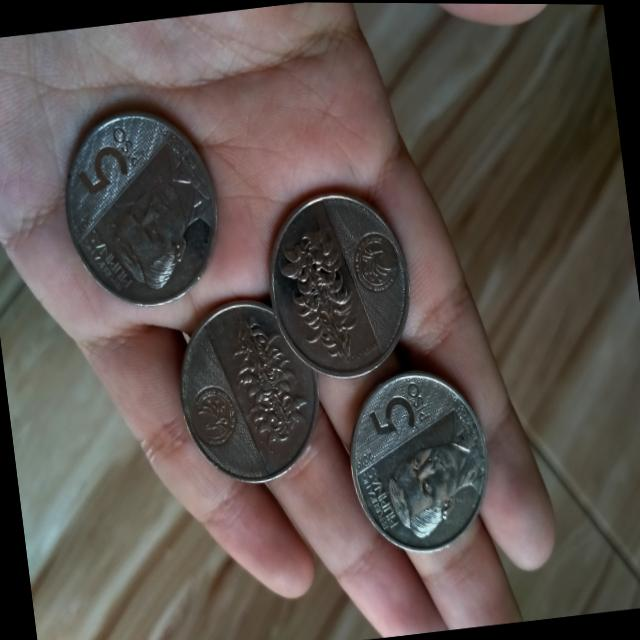5_New_Back: (224, 296, 322, 455), (272, 216, 368, 369)
5_New_Front: (58, 108, 152, 203), (359, 371, 436, 450)
